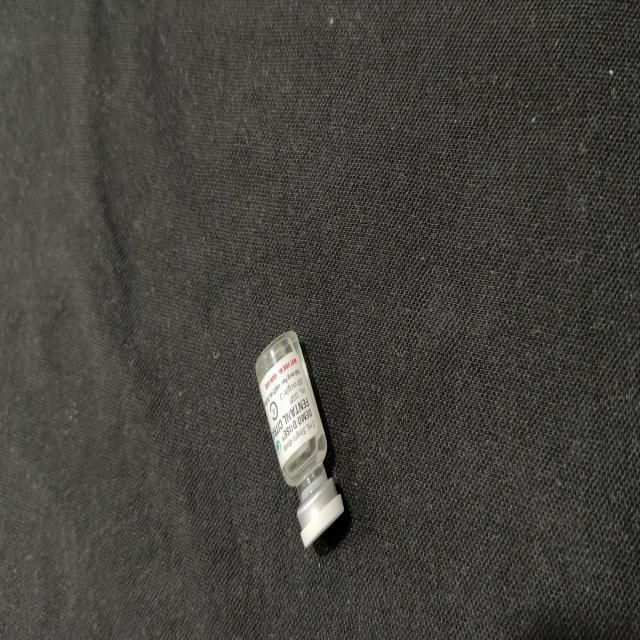fentanl_citrat: (255, 333, 344, 545)
